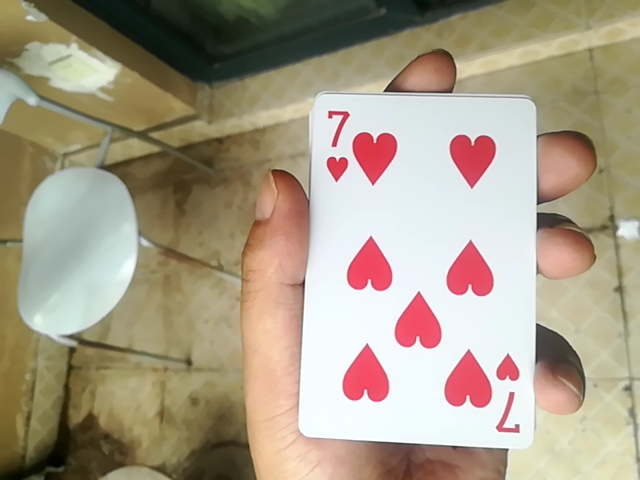hx 7: (307, 99, 536, 446)
